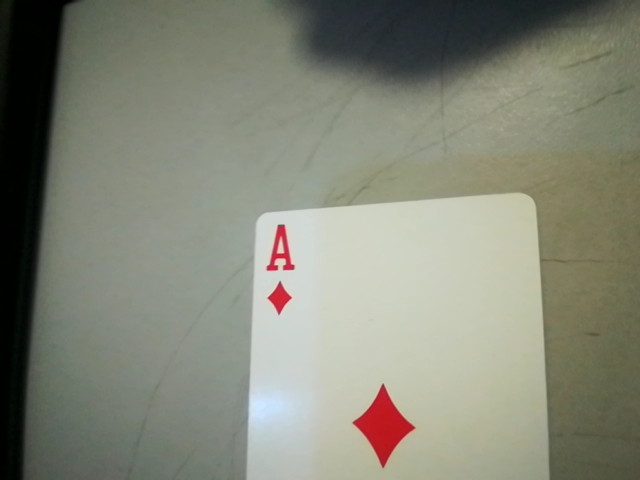fk a: (252, 216, 307, 321)
